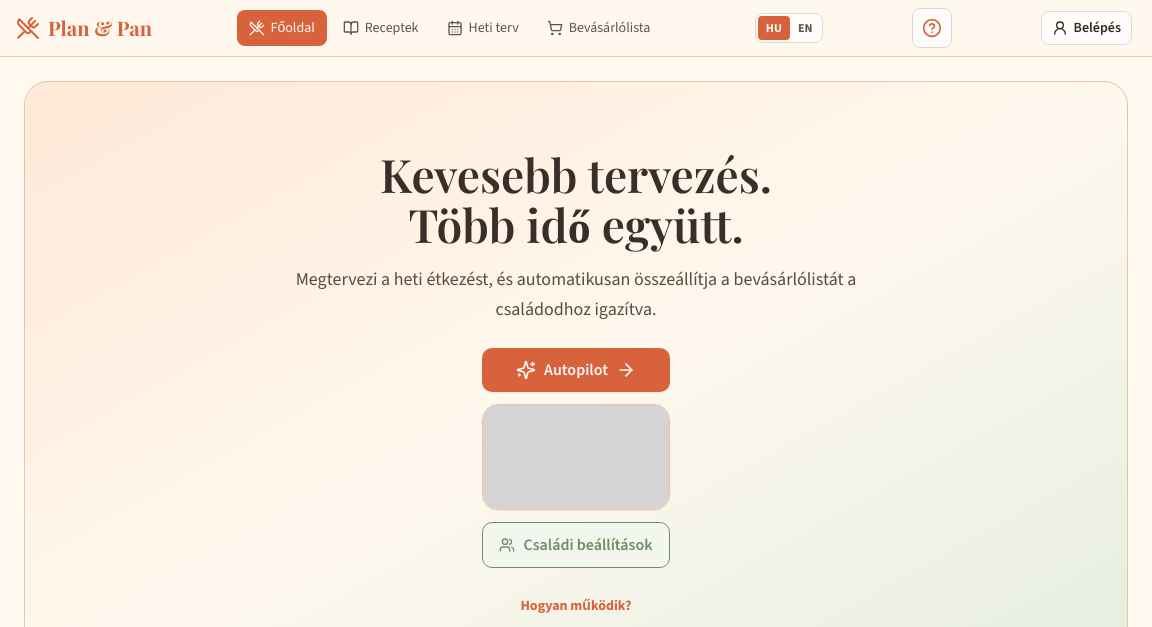
Test: language switch › shows English navigation, guidance, and recipe names
Click the button with aria-label "English language": [805, 28] box [790,16,820,40]
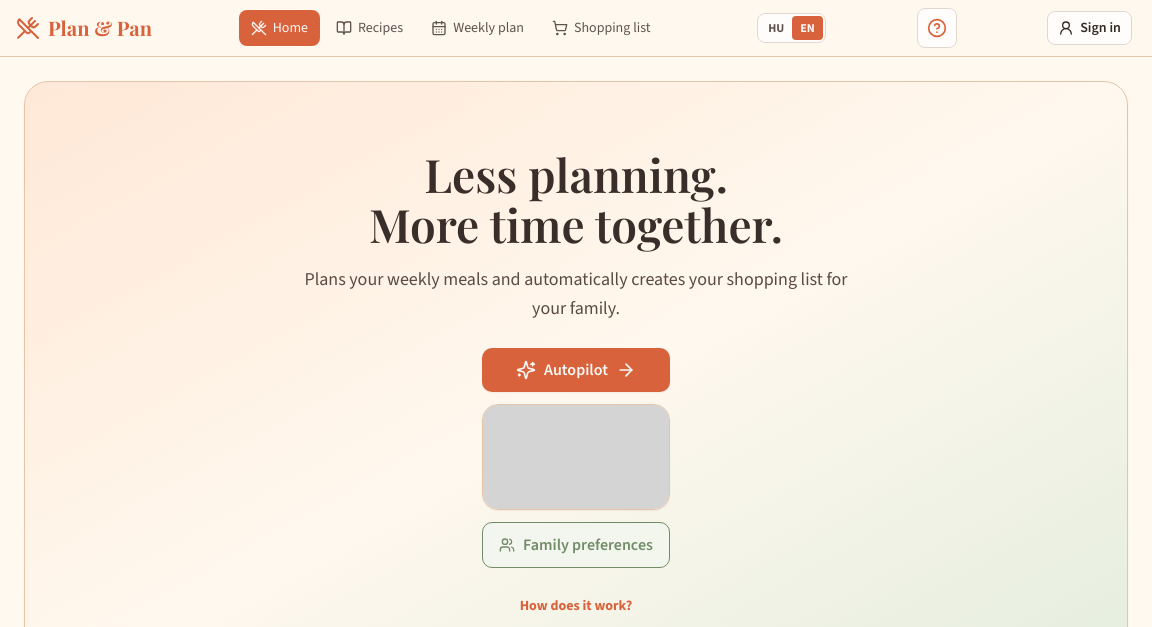
Expected: the text "automatically creates your shopping list" is shown, [304,267,848,320]
Click the link "Recipes": [370, 28] box [336,18,403,37]
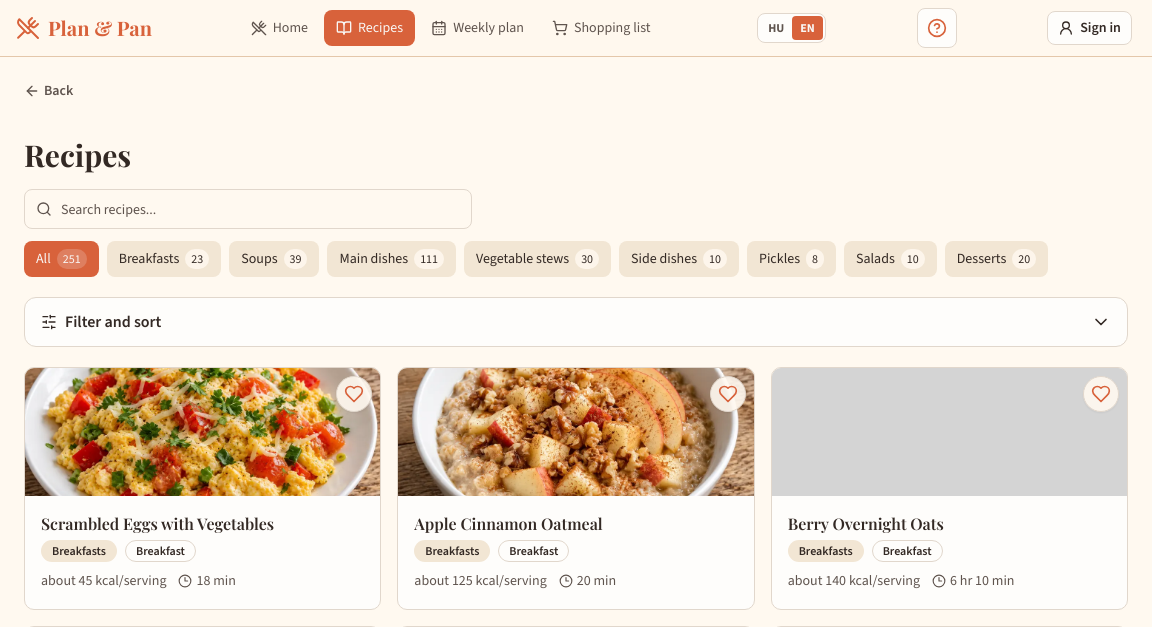
Expected: the text "Soups" is shown, [241,249,278,269]
